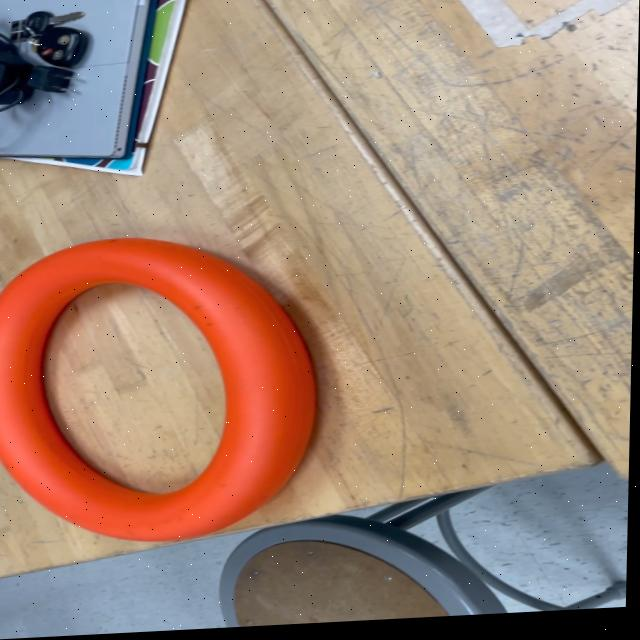note: (0, 232, 324, 551)
